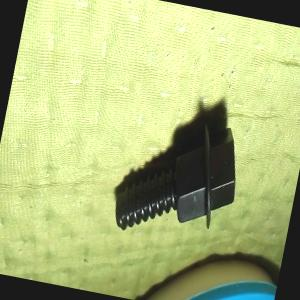parafuso: (107, 103, 246, 249)
